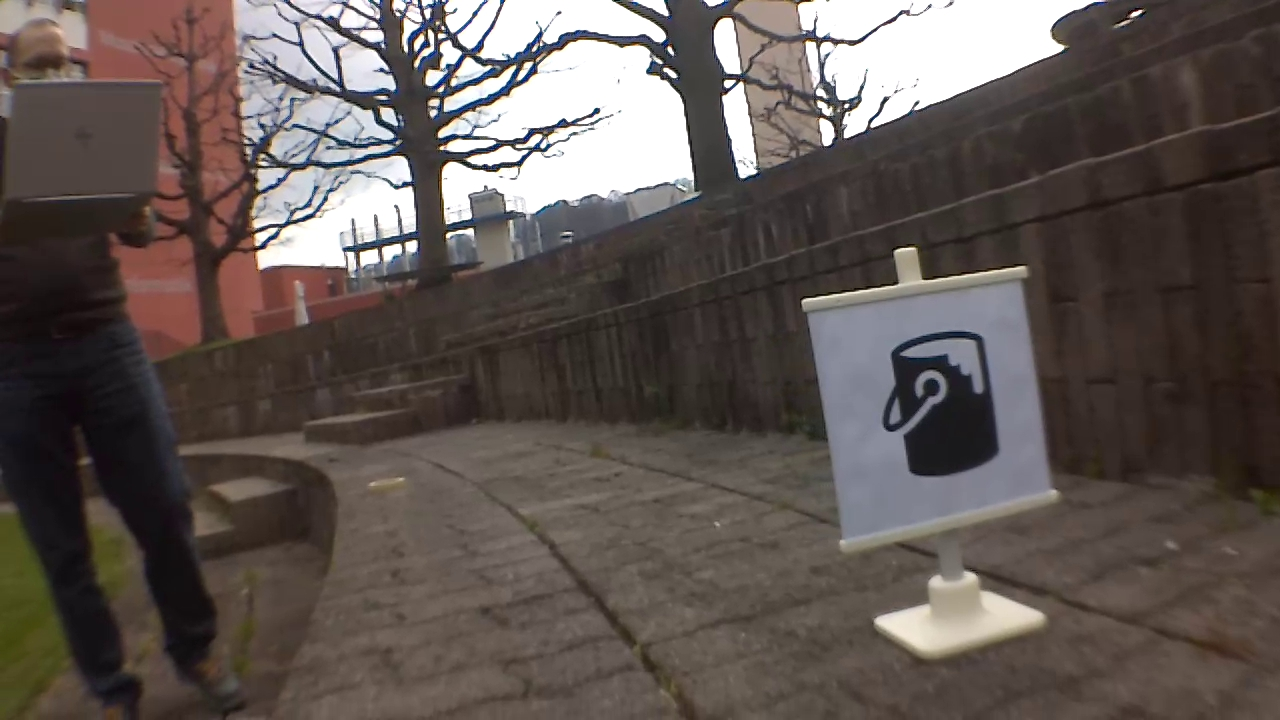bucket: (880, 326, 1004, 484)
